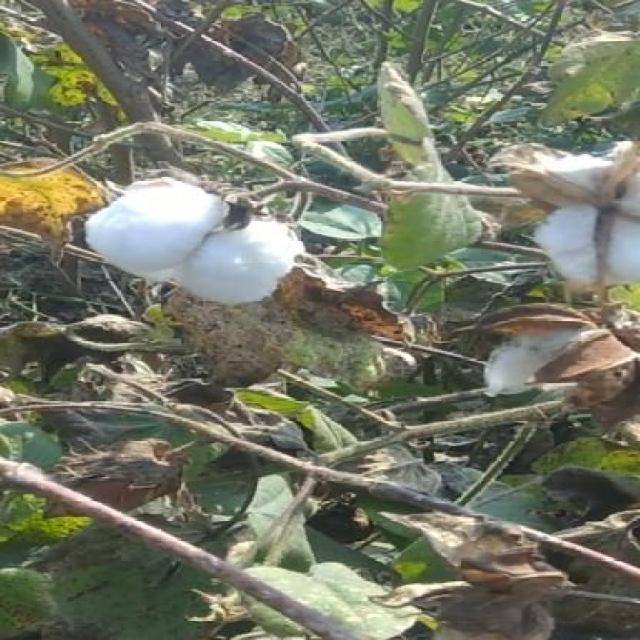cotton_ready: (66, 161, 312, 304)
